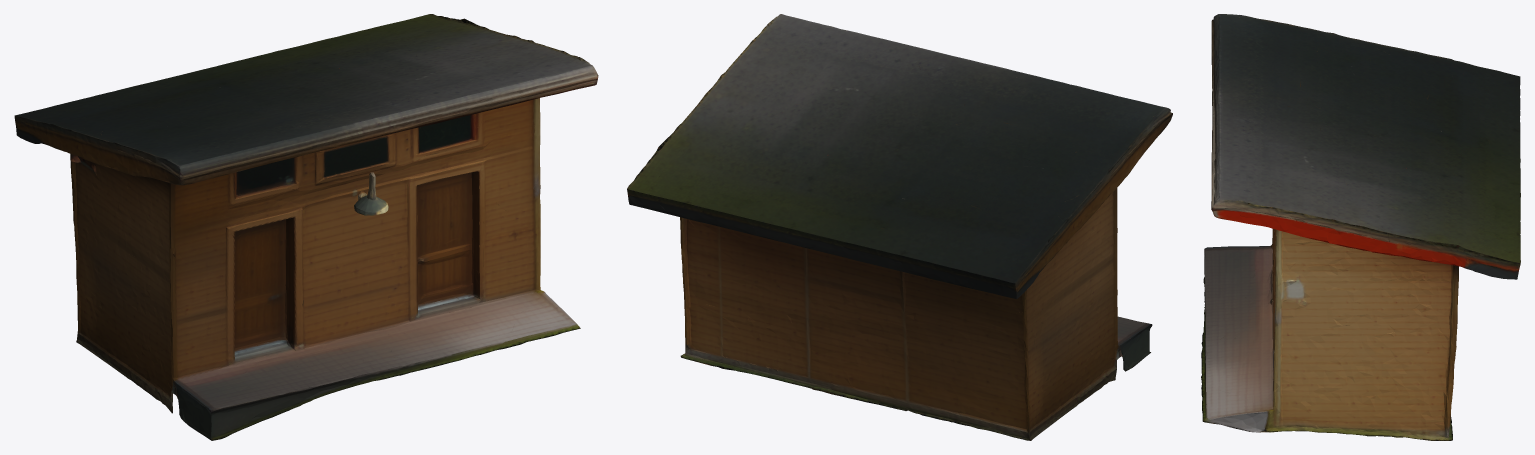
Rendered from ToiletCabinLeftBeach.glb.
3 views of the same model, side by side, from view 1: azimuth 30°, elevation 25°; view 2: azimuth 150°, elevation 25°; view 3: azimuth 270°, elevation 25° (orthographic). The views are drawn at different scales.
Parts seen in each view (by area): view 1: world; view 2: world; view 3: world.
Boxes of the visible parts, x1=… form: world: x1=14, y1=14, x2=598, y2=440; world: x1=627, y1=14, x2=1172, y2=440; world: x1=1201, y1=14, x2=1520, y2=440.
Size of the model in its own units: 0.9976 by 0.6275 by 0.7165.
Materials: 1 (1 with a texture image).
